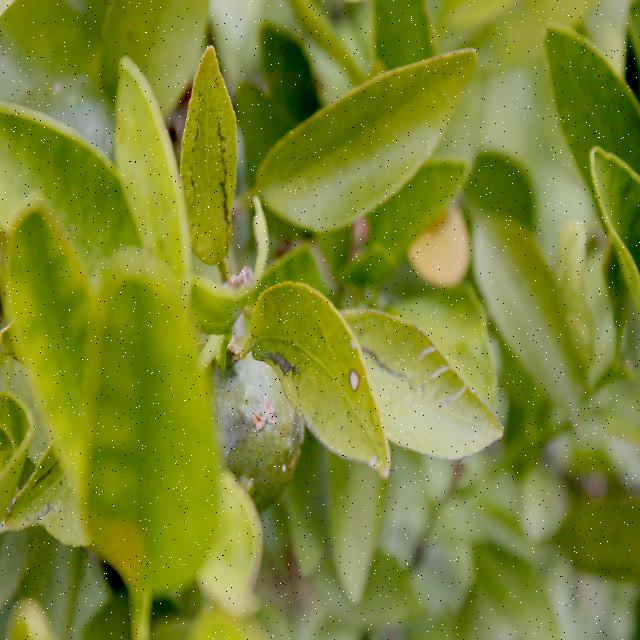blackspot: (257, 311, 367, 440), (181, 49, 239, 263)
